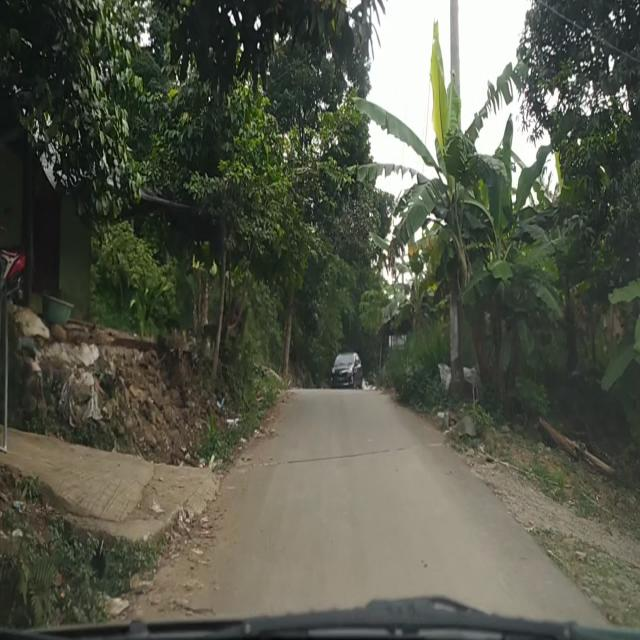Sewer Cover: (281, 444, 421, 464)
